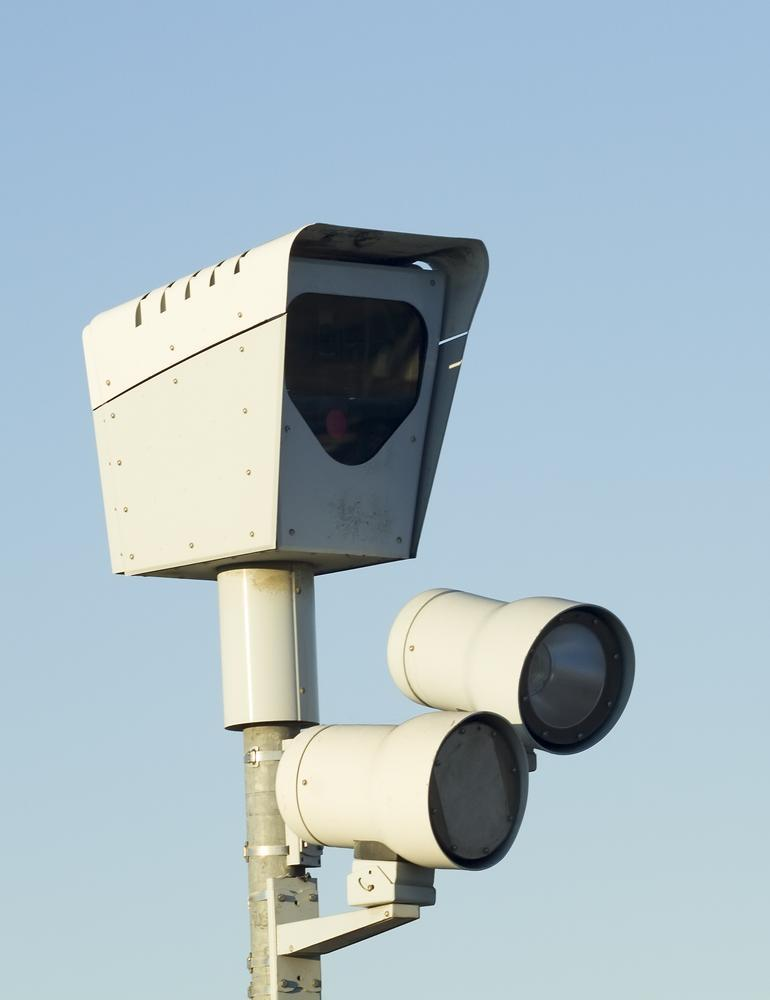Monitor: (80, 219, 489, 581), (371, 551, 638, 730), (274, 718, 538, 887)
